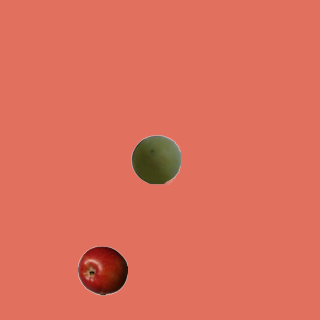Apple Braeburn: (77, 245, 127, 295)
Grape White 4: (130, 134, 180, 184)
